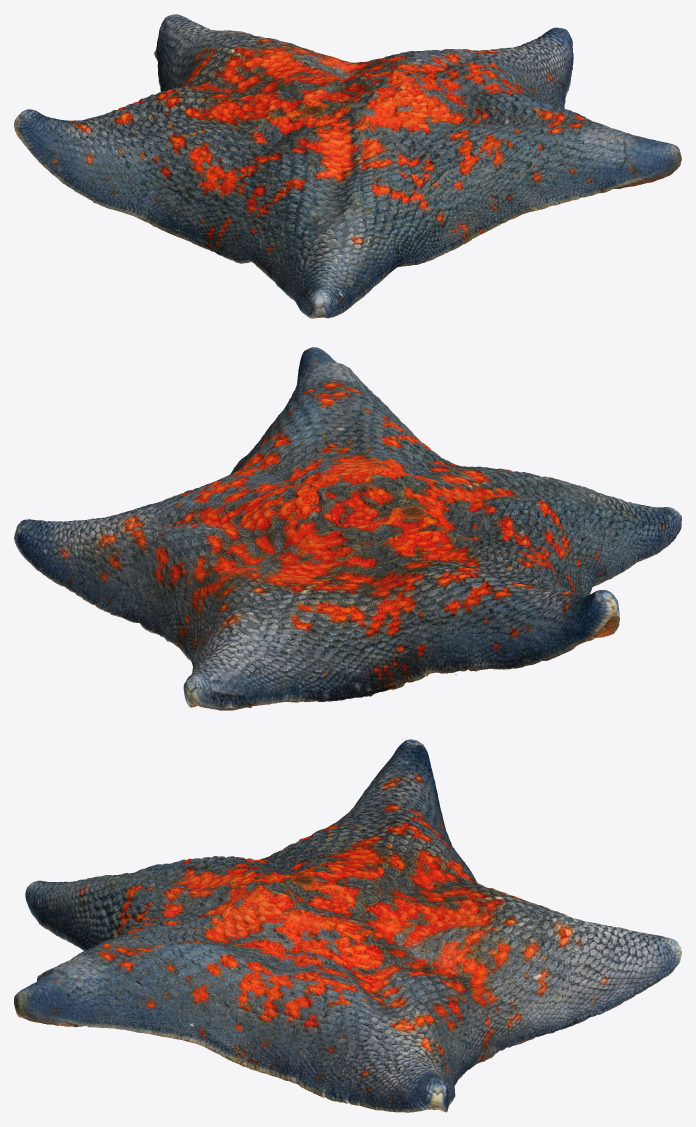
The model's file is seastar.glb.
The picture shows the model from 3 angles, top to bottom: view 1: azimuth 30°, elevation 25°; view 2: azimuth 150°, elevation 25°; view 3: azimuth 270°, elevation 25°; orthographic projection. The views are drawn at different scales.
Visible parts, largest first — view 1: Object_6, Object_13; view 2: Object_6, Object_13; view 3: Object_6, Object_13.
Part boxes in pixels (x1,y1,x2,y2): Object_6: (14,14,681,318); Object_13: (14,14,680,318); Object_6: (14,347,681,710); Object_13: (14,347,681,710); Object_6: (14,740,681,1112); Object_13: (14,739,681,1112).
Size of the model in its own units: 0.9999 by 0.2151 by 0.9704.
Materials: 2 (2 with a texture image).
